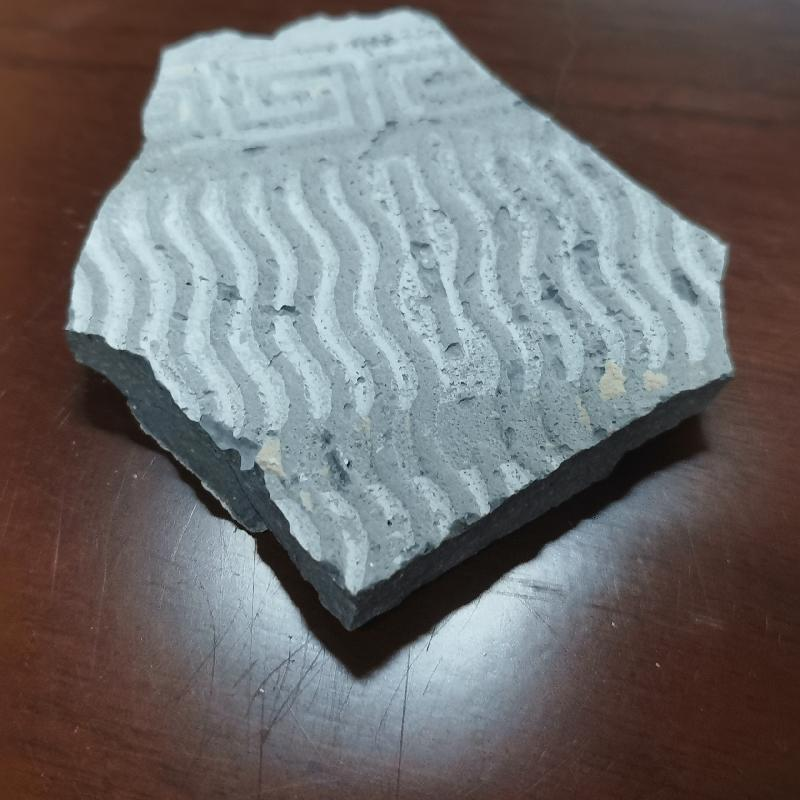tile: (66, 10, 740, 619)
